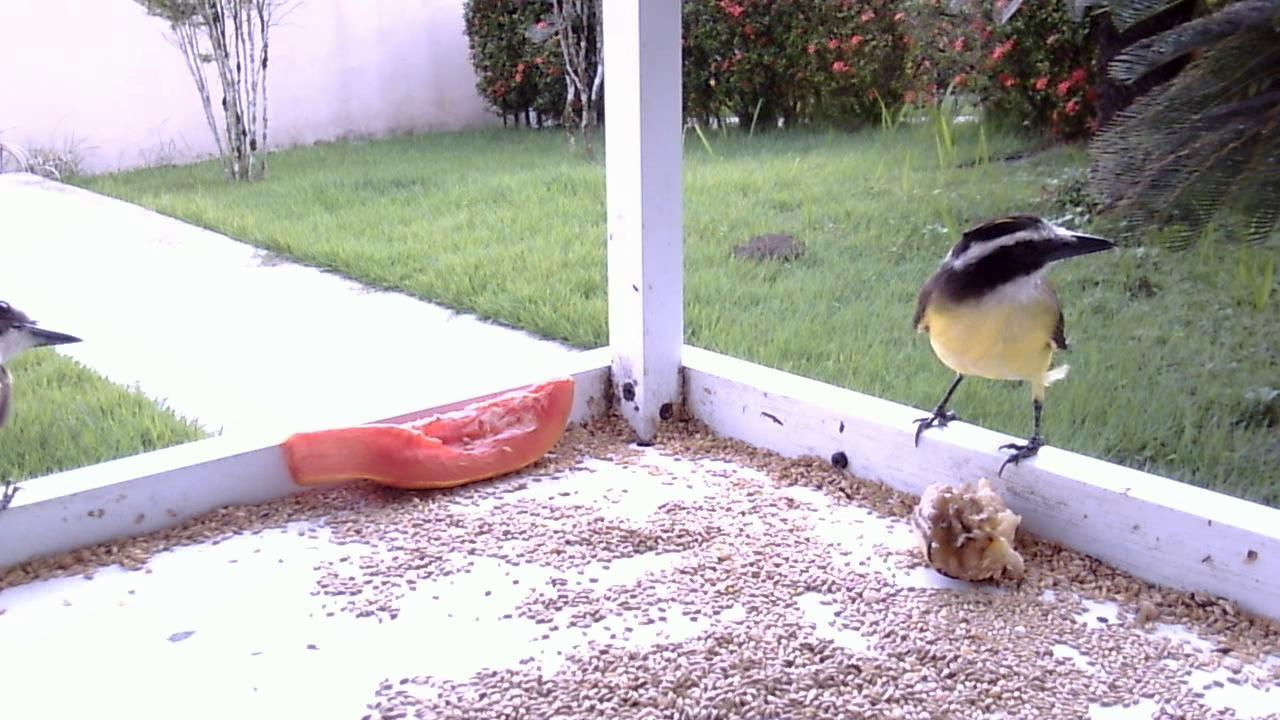bem_te_vi: (905, 204, 1117, 485)
